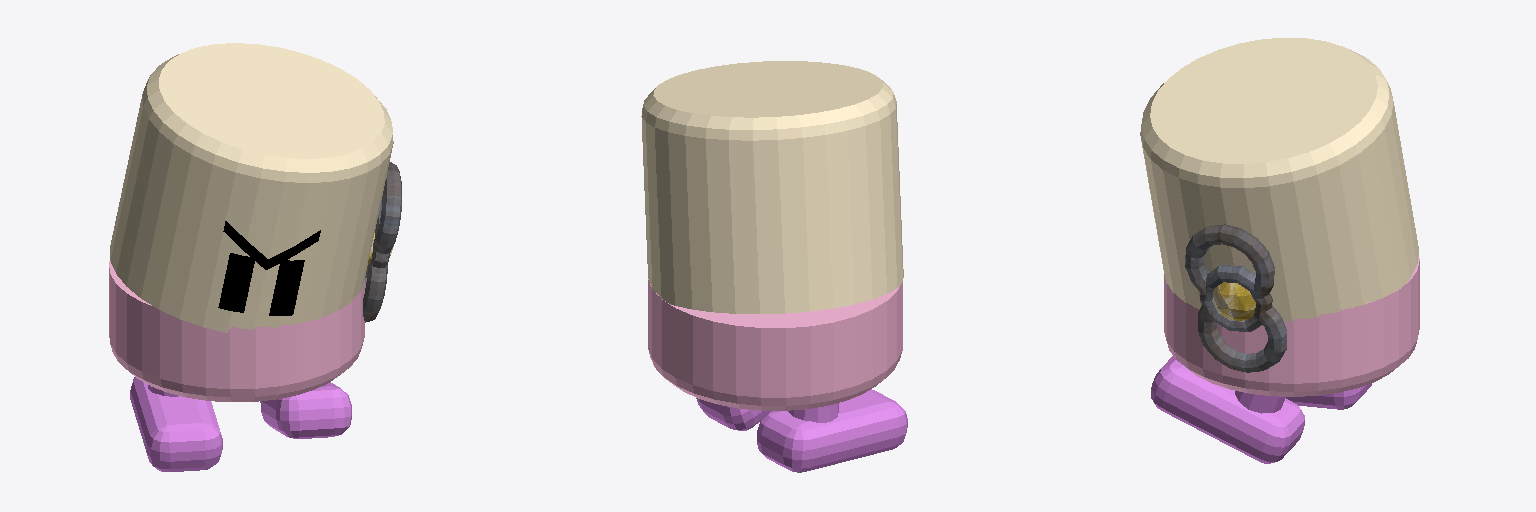
3 views of the same model, side by side, from view 1: azimuth 30°, elevation 25°; view 2: azimuth 150°, elevation 25°; view 3: azimuth 270°, elevation 25° (orthographic).
Visible parts, largest first — view 1: Head, Jaw, RightLeg, LeftLeg, WindupKey; view 2: Head, Jaw, RightLeg, LeftLeg; view 3: Head, Jaw, WindupKey, LeftLeg, RightLeg.
Boxes of the visible parts, x1=… form: Head: x1=110, y1=43, x2=393, y2=332; Jaw: x1=109, y1=261, x2=364, y2=401; RightLeg: x1=130, y1=377, x2=222, y2=471; LeftLeg: x1=260, y1=382, x2=351, y2=438; WindupKey: x1=363, y1=162, x2=401, y2=322; Head: x1=641, y1=61, x2=903, y2=313; Jaw: x1=648, y1=279, x2=902, y2=410; RightLeg: x1=757, y1=389, x2=907, y2=472; LeftLeg: x1=696, y1=398, x2=771, y2=430; Head: x1=1140, y1=38, x2=1418, y2=321; Jaw: x1=1164, y1=257, x2=1419, y2=396; WindupKey: x1=1185, y1=224, x2=1286, y2=372; LeftLeg: x1=1151, y1=356, x2=1304, y2=463; RightLeg: x1=1286, y1=383, x2=1371, y2=409.
Size of the model in its own units: 112 by 154 by 109.
6 materials, 2 textured.